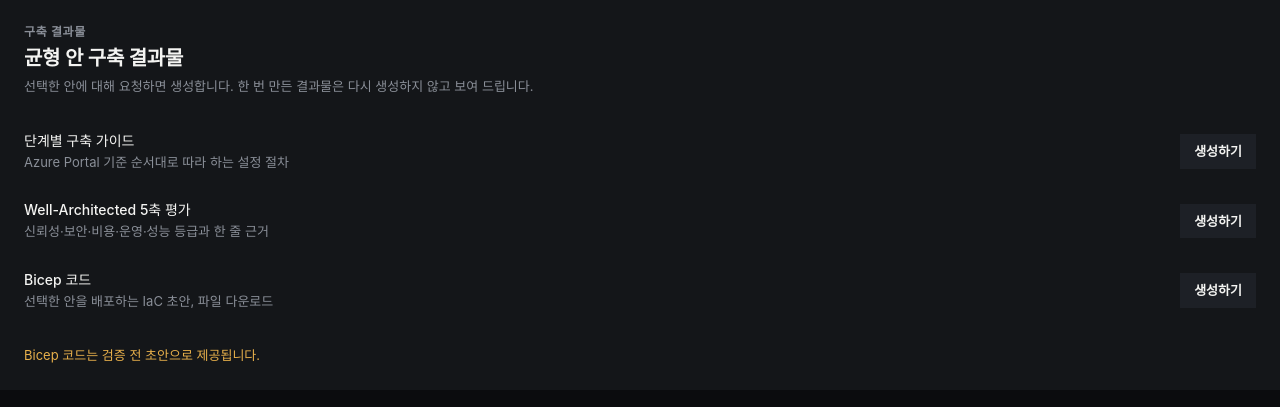
Test: ArtifactsSection › 요청 오류 401는 다시 시도할 수 있다
Step 1. Click the button "생성하기" in the row of "Azure Portal 기준 순서대로 따라 하는 설정 절차" → (1218, 152), box 1180,134 -> 1256,169
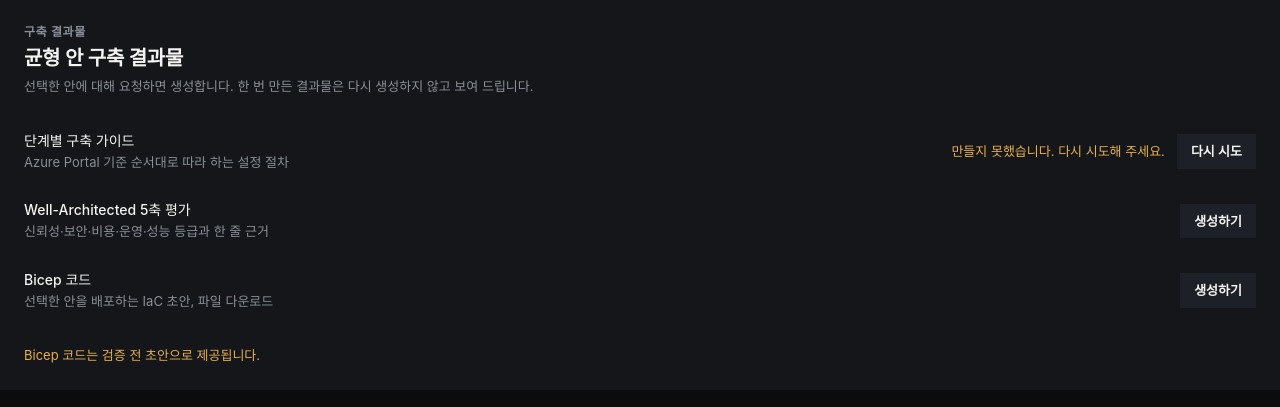
Expected: the message reads "만들지 못했습니다. 다시 시도해 주세요.", 951,143 -> 1165,159
